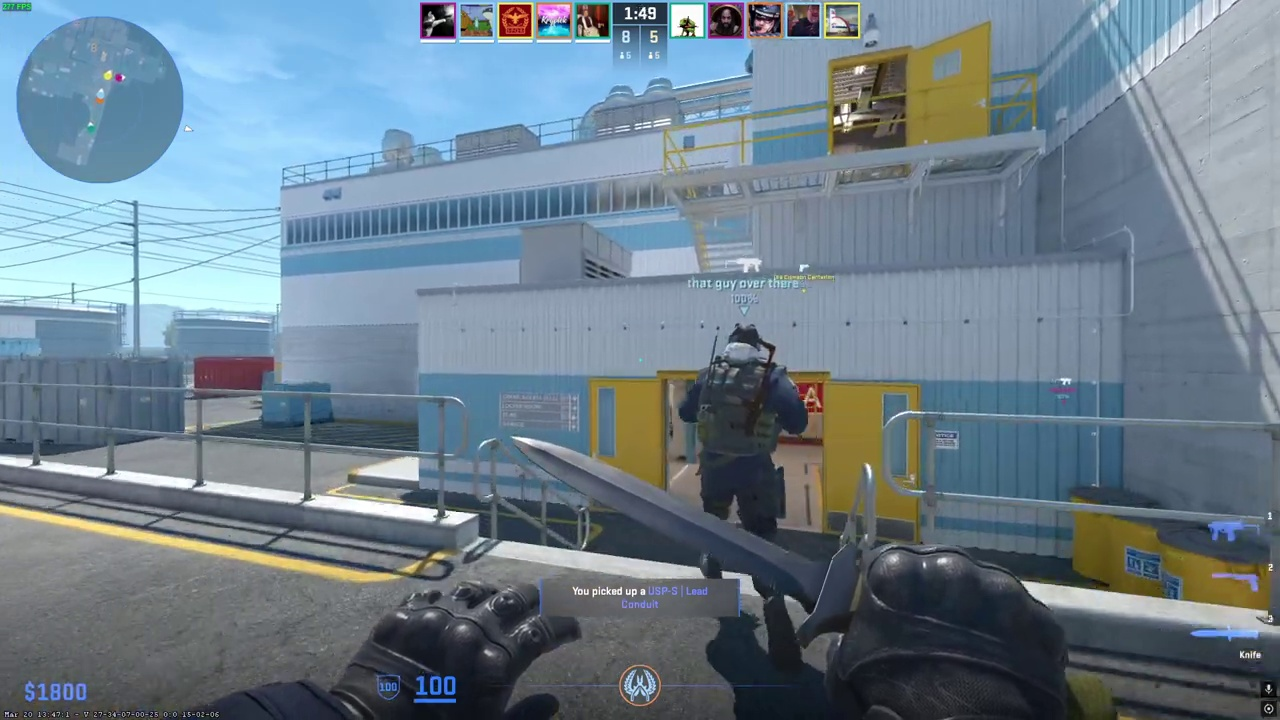CT: (687, 323, 805, 621)
